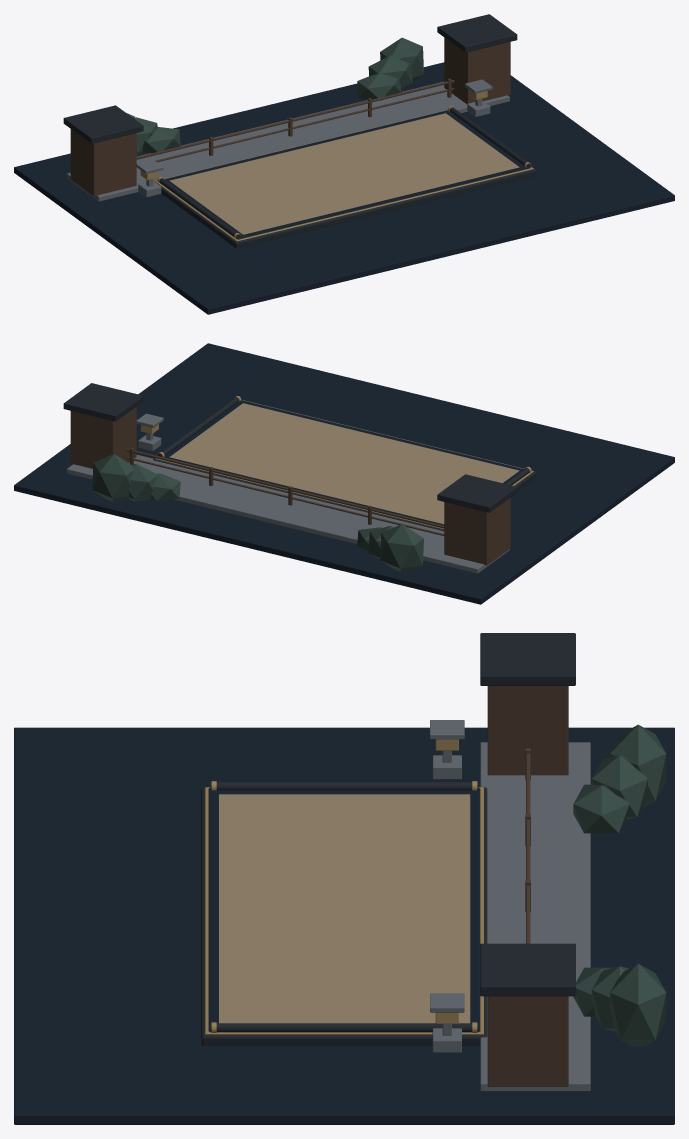
File: duel-arena-blockout.glb
The picture shows the model from 3 angles, top to bottom: view 1: azimuth 30°, elevation 25°; view 2: azimuth 150°, elevation 25°; view 3: azimuth 270°, elevation 25°; orthographic projection. The views are drawn at different scales.
Visible parts, largest first — view 1: Table surround, Scroll silk playing surface, Rear terrace, Pavilion footprint, Pavilion footprint.001, Lacquer plinth, Scroll indigo border, Pavilion roof mass, Pavilion roof mass.001, Brass perimeter, Rear rail upper, Garden mass placeholder.005 (+6 smaller); view 2: Table surround, Scroll silk playing surface, Rear terrace, Pavilion footprint, Pavilion footprint.001, Scroll indigo border, Pavilion roof mass.001, Pavilion roof mass, Garden mass placeholder.002, Garden mass placeholder.005, Rear rail upper, Rear rail lower (+5 smaller); view 3: Table surround, Scroll silk playing surface, Rear terrace, Pavilion footprint.001, Pavilion footprint, Scroll indigo border, Pavilion roof mass.001, Pavilion roof mass, Lacquer plinth, Garden mass placeholder.005, Brass perimeter, Scroll roller right (+7 smaller).
Boxes of the visible parts, <box> form: Table surround: <box>14,62,674,314</box>; Scroll silk playing surface: <box>169,113,519,234</box>; Rear terrace: <box>67,81,509,201</box>; Pavilion footprint: <box>70,129,136,196</box>; Pavilion footprint.001: <box>444,37,510,104</box>; Lacquer plinth: <box>154,166,536,248</box>; Scroll indigo border: <box>164,110,529,239</box>; Pavilion roof mass: <box>63,105,143,143</box>; Pavilion roof mass.001: <box>437,14,517,52</box>; Brass perimeter: <box>155,110,533,241</box>; Rear rail upper: <box>136,80,454,159</box>; Garden mass placeholder.005: <box>380,37,423,80</box>; Table surround: <box>14,343,674,604</box>; Scroll silk playing surface: <box>169,403,519,524</box>; Rear terrace: <box>67,454,509,573</box>; Pavilion footprint: <box>444,497,510,565</box>; Pavilion footprint.001: <box>70,406,136,468</box>; Scroll indigo border: <box>163,400,524,525</box>; Pavilion roof mass.001: <box>63,383,143,421</box>; Pavilion roof mass: <box>437,474,517,512</box>; Garden mass placeholder.002: <box>380,524,423,572</box>; Garden mass placeholder.005: <box>92,454,133,501</box>; Rear rail upper: <box>126,449,444,528</box>; Rear rail lower: <box>126,457,444,535</box>; Table surround: <box>14,727,674,1124</box>; Scroll silk playing surface: <box>218,794,470,1023</box>; Rear terrace: <box>480,742,590,1091</box>; Pavilion footprint.001: <box>487,996,568,1086</box>; Pavilion footprint: <box>487,686,568,775</box>; Scroll indigo border: <box>208,788,480,1031</box>; Pavilion roof mass.001: <box>480,943,575,996</box>; Pavilion roof mass: <box>480,633,575,685</box>; Lacquer plinth: <box>201,787,487,1045</box>; Garden mass placeholder.005: <box>610,963,666,1046</box>; Brass perimeter: <box>205,787,483,1034</box>; Scroll roller right: <box>210,1023,478,1032</box>.
Bounding box in the file's own units: 25 × 3.65 × 18.
